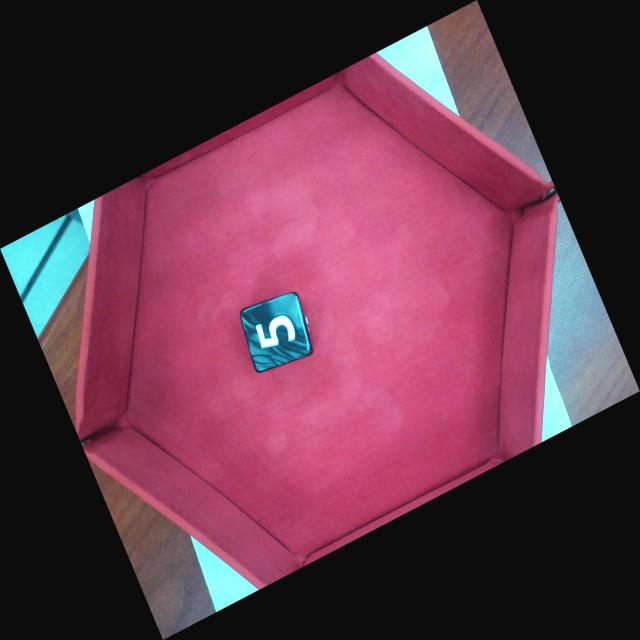dice: (242, 292, 310, 368)
